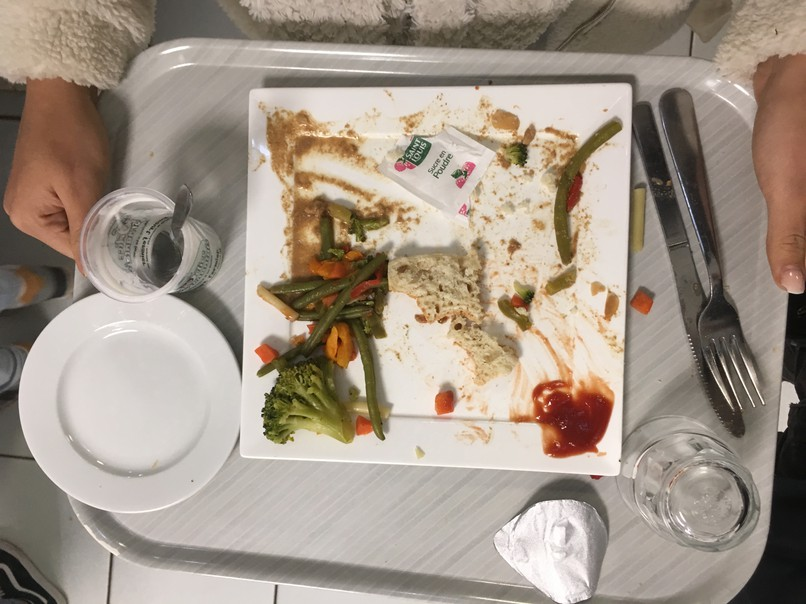cup: (622, 407, 765, 560)
cutlery: (630, 81, 780, 438), (165, 182, 199, 246)
orga: (388, 253, 523, 376), (270, 208, 384, 353), (262, 359, 359, 450)
trash: (77, 183, 230, 301), (494, 500, 618, 604), (387, 121, 496, 211)
